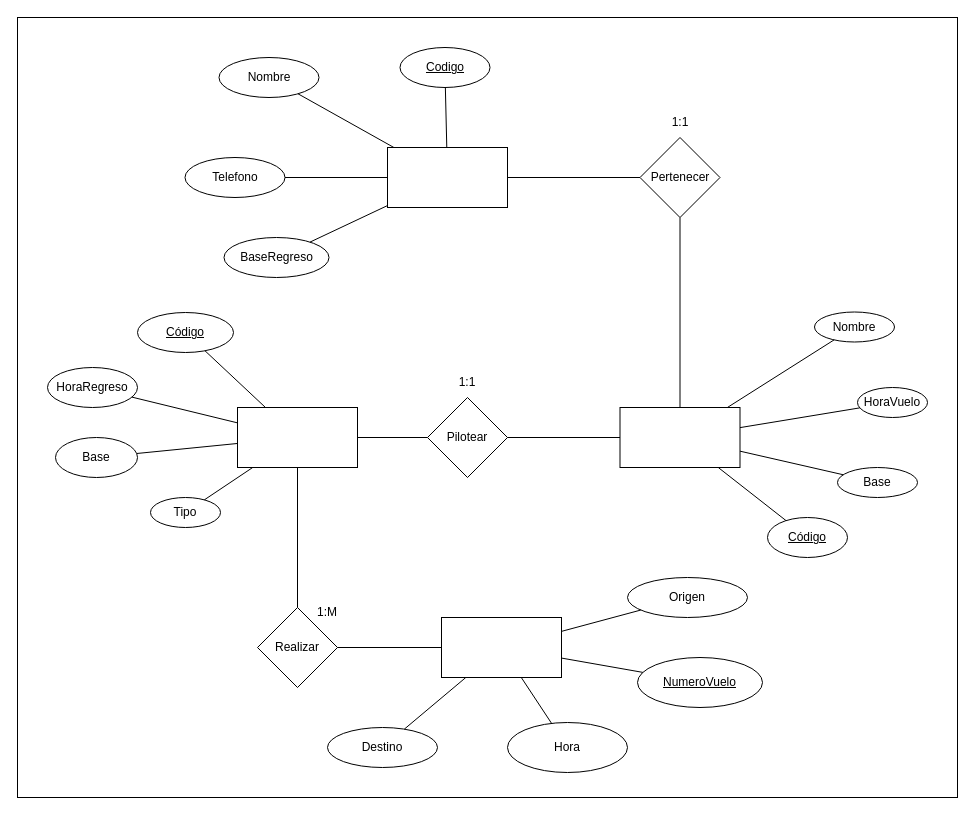
This 975x815 diagram has some shape labels left out. The centre of each missing label's shape, as x and y in pixels:
Avión: point (297, 437)
Piloto: point (679, 437)
Tripulación: point (447, 177)
Vuelo: point (501, 647)
